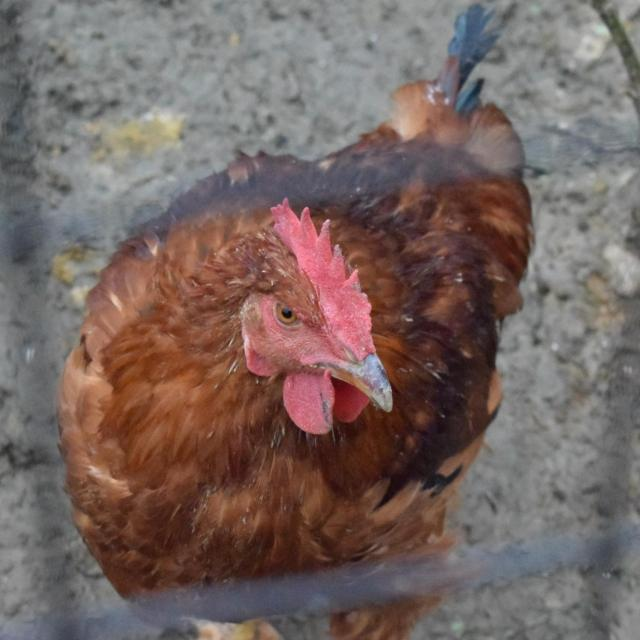cook: (5, 2, 580, 604)
